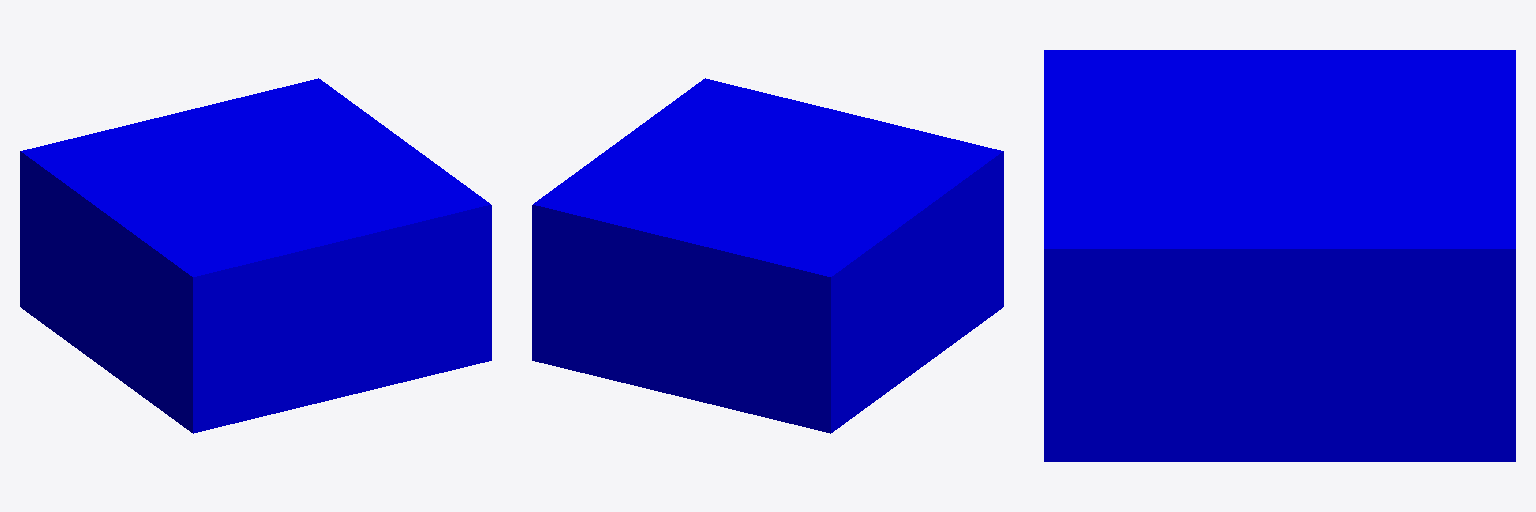
The robot description file, URDF, robot "drop_box_1":
<?xml version="1.0"?>
<robot name="drop_box_1">
  <link name="box_link">
    <visual>
      <origin xyz="0 0 0" rpy="0 0 0"/>
      <geometry>
        <box size="0.1 0.1 0.05"/> <!-- ancho, largo, alto -->
      </geometry>
      <material name="blue">
        <color rgba="0 0 1 1"/>
      </material>
    </visual>
    <collision>
      <origin xyz="0 0 0" rpy="0 0 0"/>
      <geometry>
        <box size="0.1 0.1 0.05"/>
      </geometry>
    </collision>
    <inertial>
      <origin xyz="0 0 0" rpy="0 0 0"/>
      <mass value="0.1"/>
      <inertia ixx="1e-5" ixy="0" ixz="0" iyy="1e-5" iyz="0" izz="1e-5"/>
    </inertial>
  </link>
</robot>

--- What the picture shows (computed from the rendered views, not written in the file) ---
Views: 3 orthographic renders of the robot side by side, from view 1: azimuth 30°, elevation 25°; view 2: azimuth 150°, elevation 25°; view 3: azimuth 270°, elevation 25°.
Model drop_box_1 with 1 links and 0 joints (none), rooted at box_link, posed all joints at 0.
Visible links, largest first — view 1: box_link; view 2: box_link; view 3: box_link.
Boxes of the visible links, <box> form: box_link: <box>20,78,491,433</box>; box_link: <box>532,78,1003,433</box>; box_link: <box>1044,50,1515,461</box>.
Bounding box of the posed robot: 0.1 × 0.1 × 0.05 m (x, y, z).
Geometry: primitives only (box / cylinder / sphere), no mesh files.